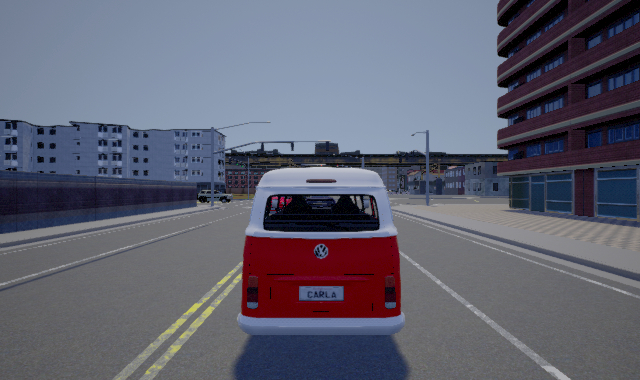vehicle: (237, 167, 405, 335), (197, 188, 233, 203)
